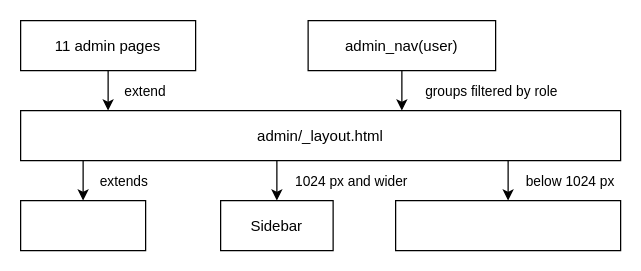
The diagram is 641 pixels wide and 271 high, and some of its shapes have lost their labels. The shapes that lost their labels are listed below. From the top down, each one's centre as x and y in pixels, then its label:
(x=82, y=225): base.html
(x=507, y=225): details menu, closed
